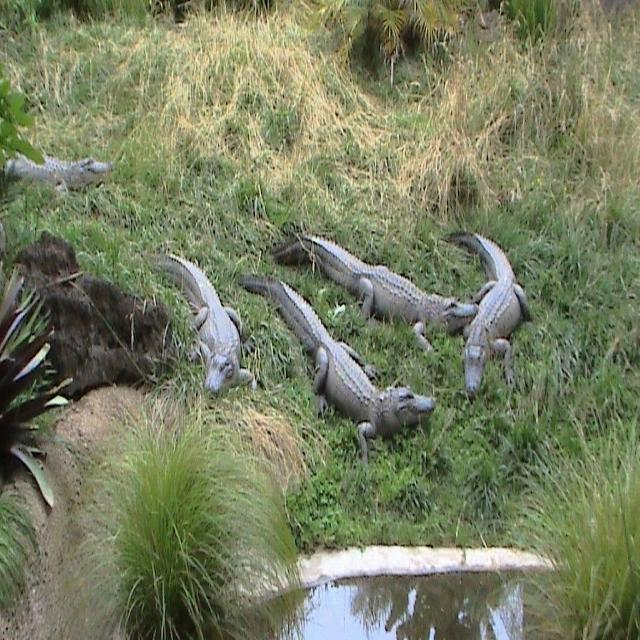crocodile: (262, 219, 540, 409), (224, 264, 449, 481)
